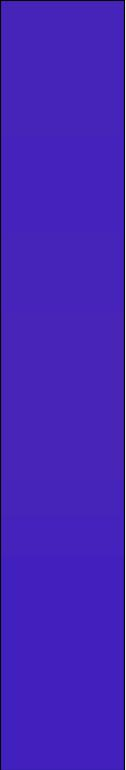safe: (9, 8, 120, 759)
